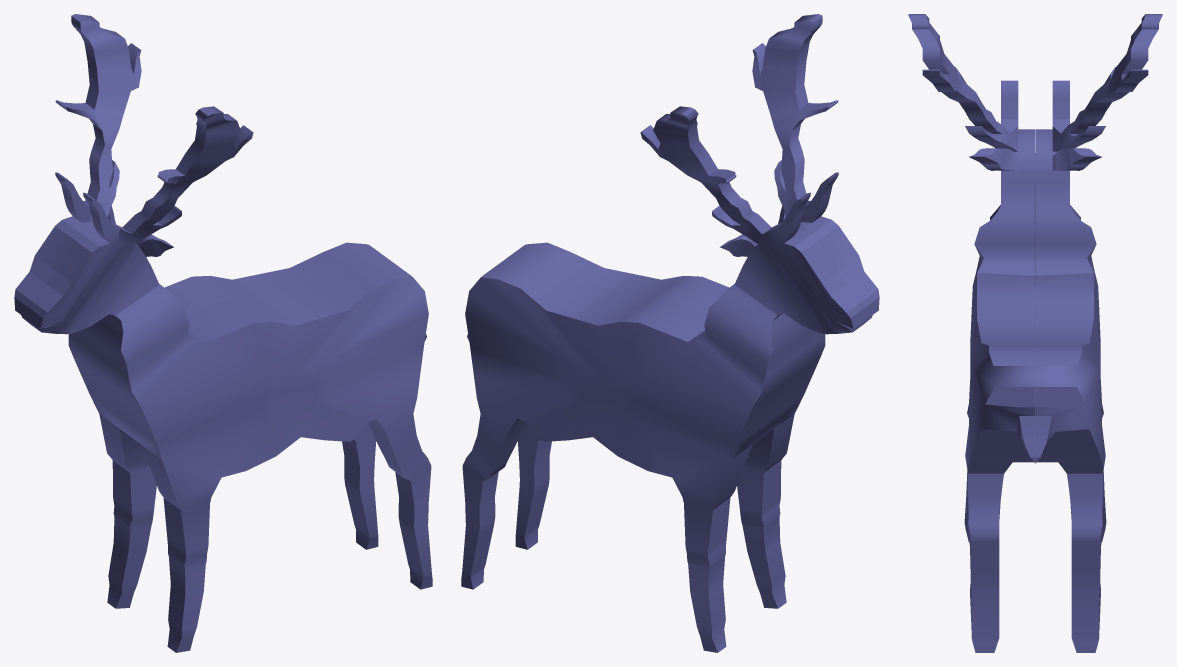
File: Ellek FBX 2.fbx
The picture shows the model from 3 angles, left to right: view 1: azimuth 30°, elevation 25°; view 2: azimuth 150°, elevation 25°; view 3: azimuth 270°, elevation 25°; orthographic projection. The views are drawn at different scales.
Parts seen in each view (by area): view 1: pCube1, pCube2; view 2: pCube2, pCube1; view 3: pCube1, pCube2.
Boxes of the visible parts, x1,y1,x2,y2 form: pCube1: [27, 106, 432, 652]; pCube2: [14, 14, 390, 608]; pCube2: [461, 106, 866, 652]; pCube1: [503, 14, 879, 608]; pCube1: [908, 14, 1036, 652]; pCube2: [1034, 14, 1162, 652].
Size of the model in its own units: 5.88 by 7.99 by 3.52.
